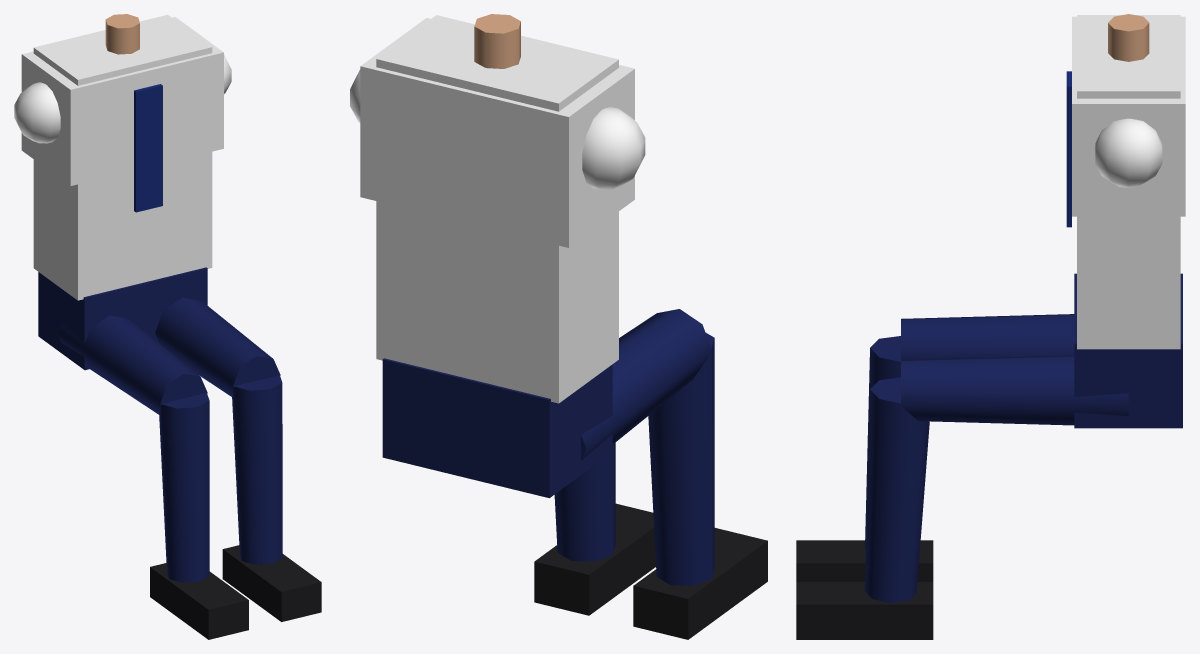
Rendered from CuerpoJuez.obj.
3 renders of one model, left to right at view 1: azimuth 30°, elevation 25°; view 2: azimuth 150°, elevation 25°; view 3: azimuth 270°, elevation 25°, orthographic. The views are drawn at different scales.
Parts seen in each view (by area): view 1: CuerpoJuez; view 2: CuerpoJuez; view 3: CuerpoJuez.
Boxes of the visible parts, x1,y1,x2,y2 form: CuerpoJuez: [14, 14, 321, 639]; CuerpoJuez: [350, 14, 767, 639]; CuerpoJuez: [796, 14, 1185, 639].
Size of the model in its own units: 0.5465 by 1.25 by 0.7525.
Materials: 1 (1 with a texture image).
